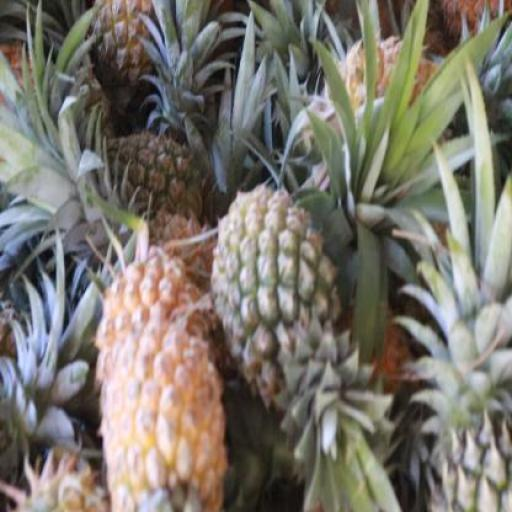------------------------------: (210, 181, 338, 379), (89, 0, 161, 103)
Pineapple - v8 v1: (99, 326, 228, 511)
